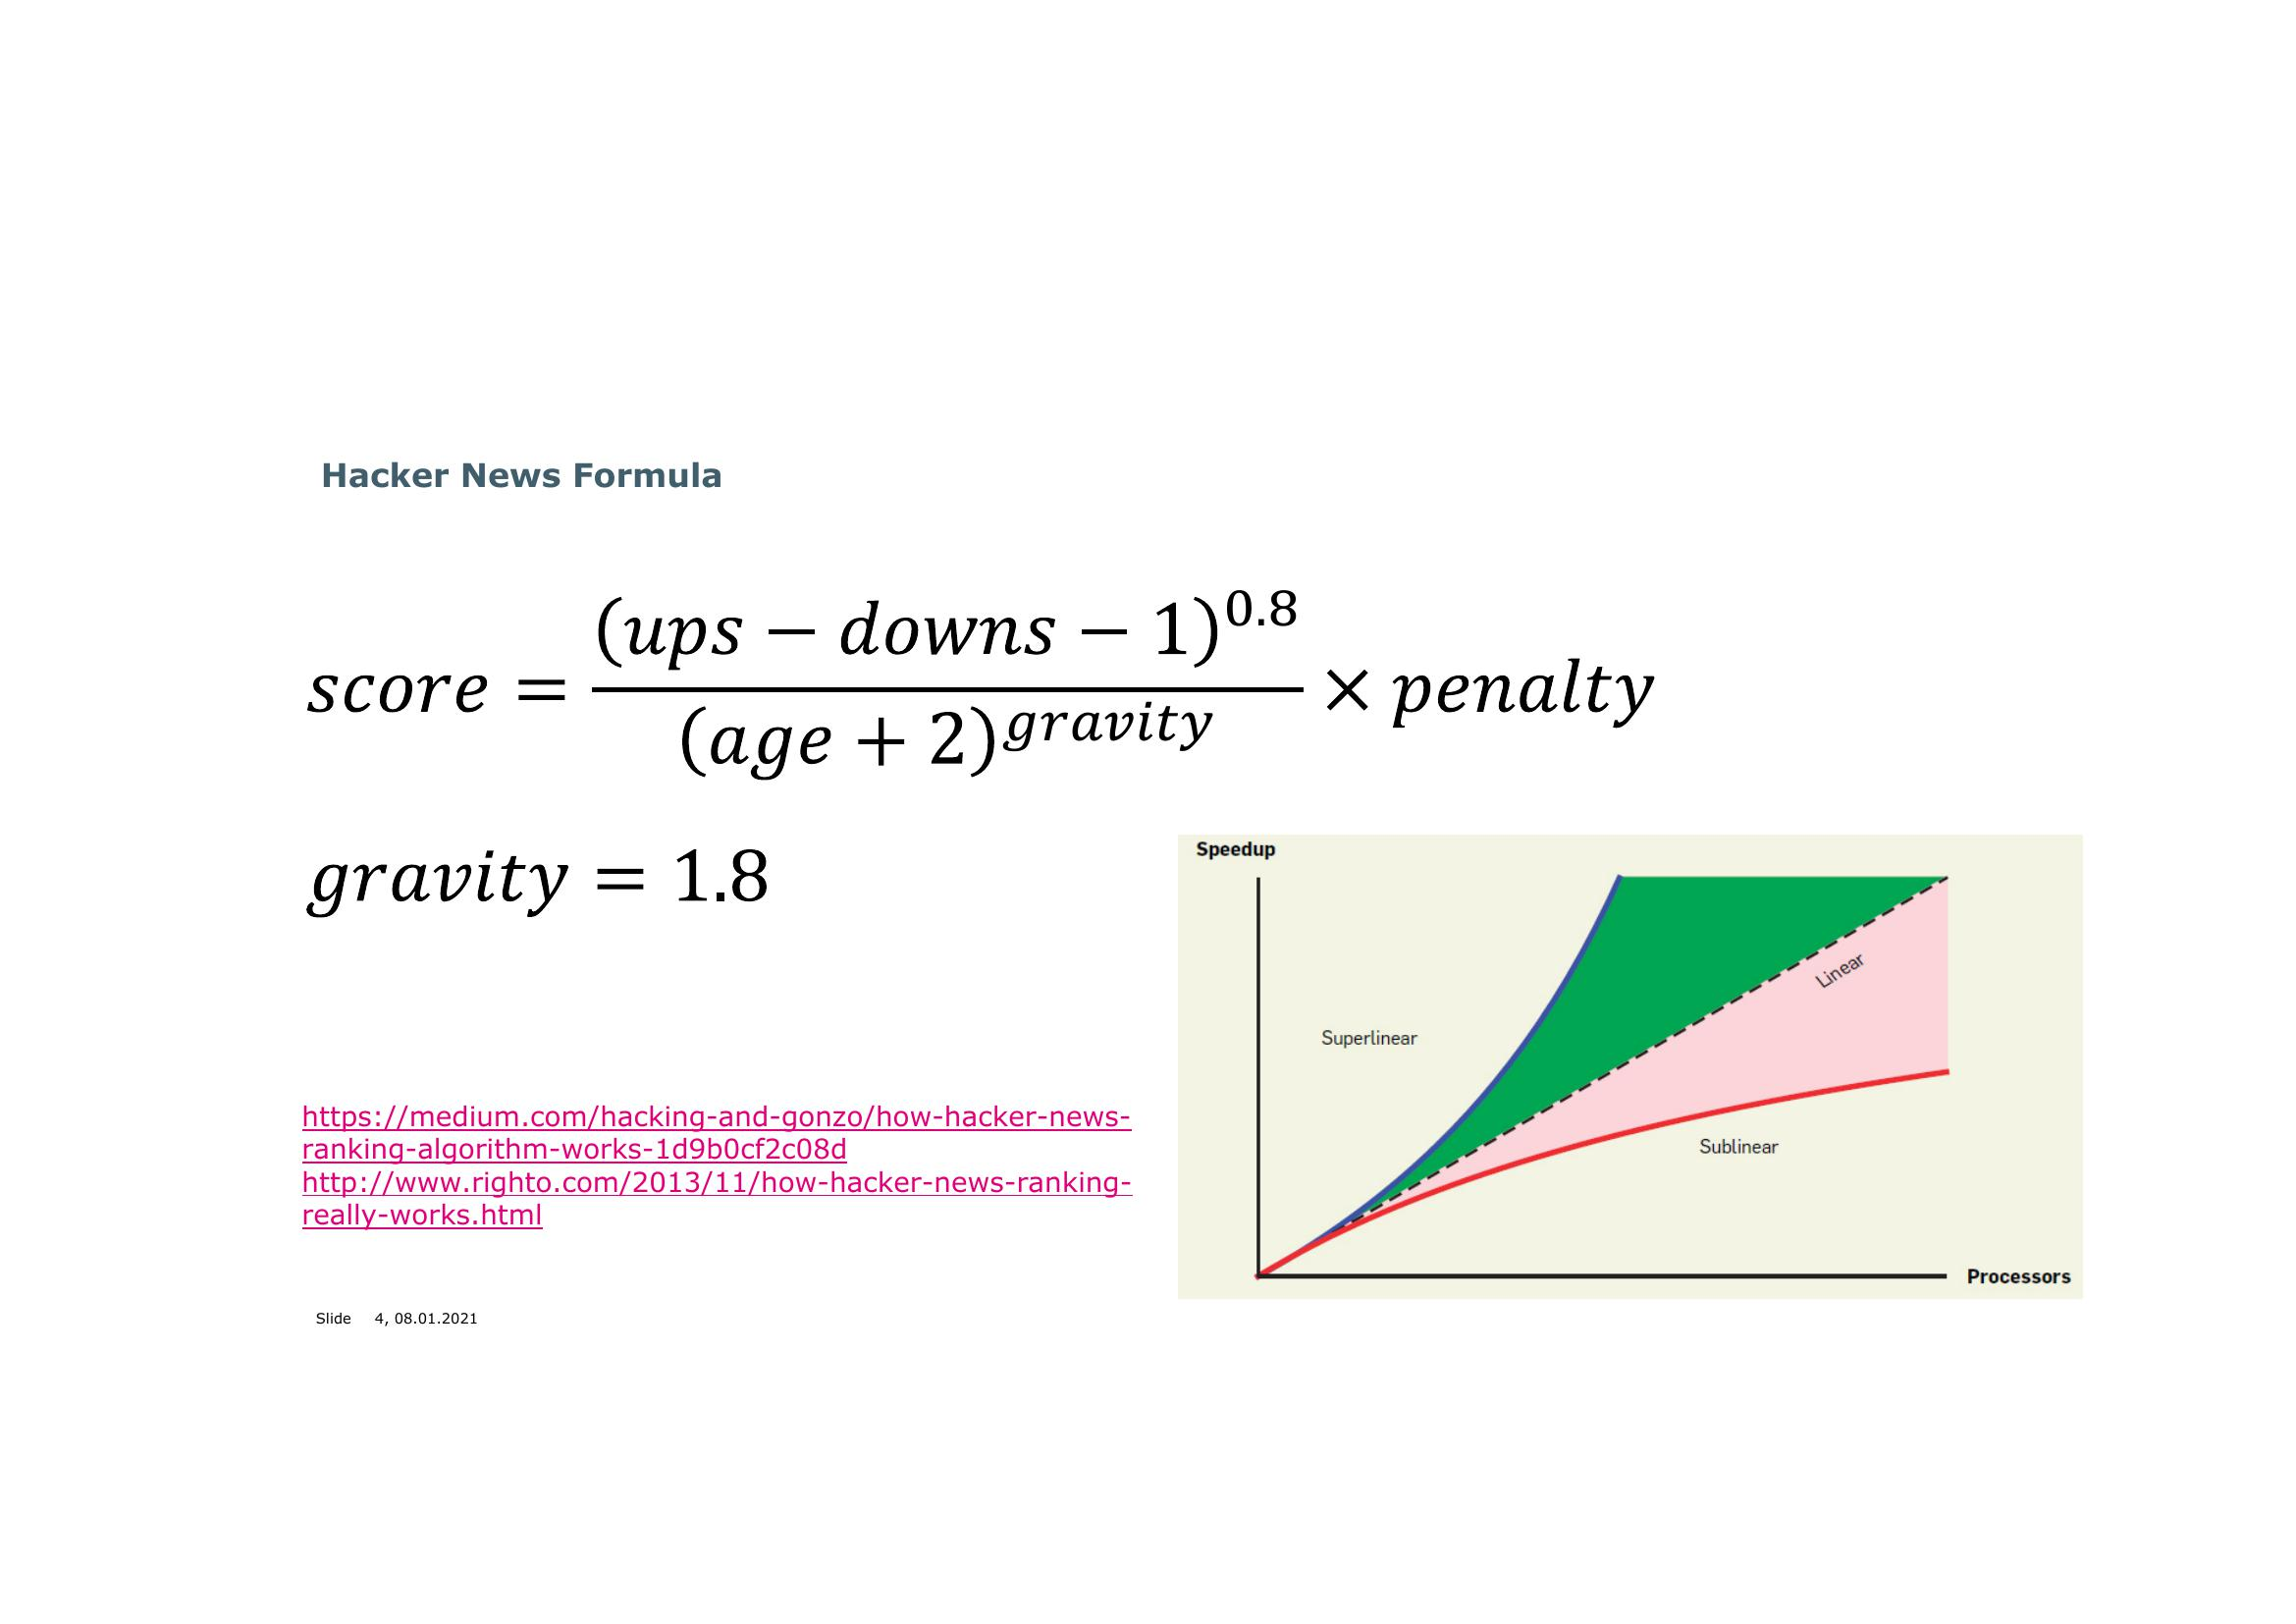Title: (299, 445, 750, 501)
